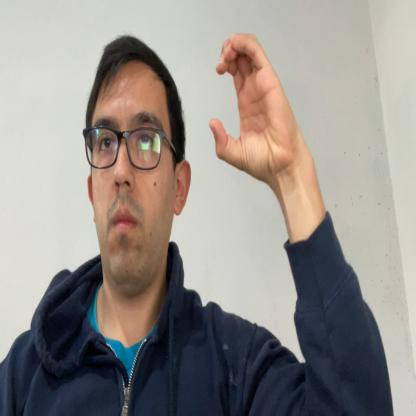C: (209, 32, 293, 182)
